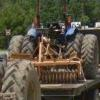Tractor: (5, 11, 100, 100)
